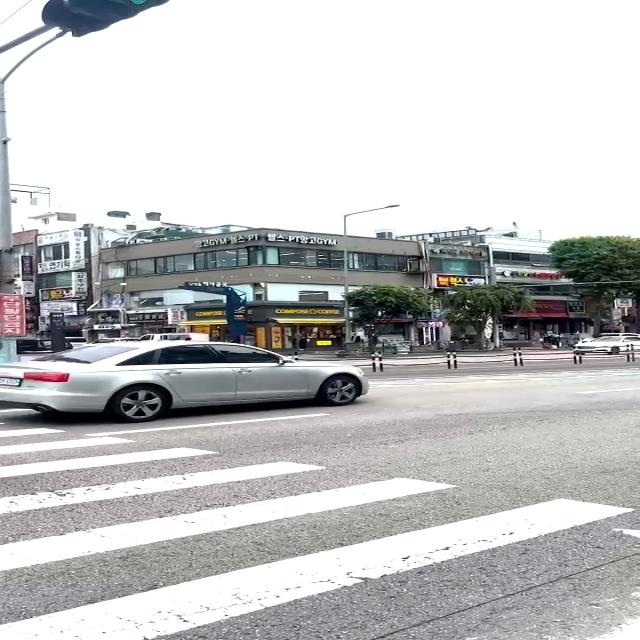building: (84, 225, 430, 354)
car: (0, 338, 370, 423)
